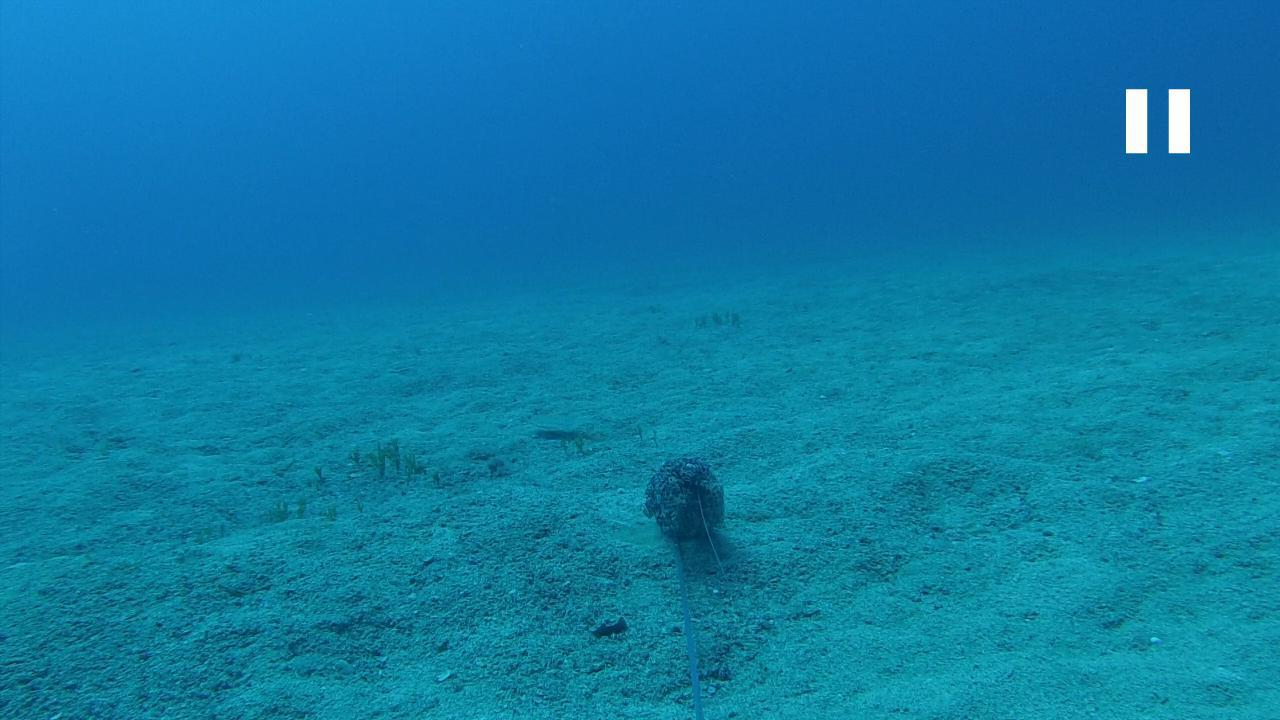bothus: (519, 409, 596, 441)
